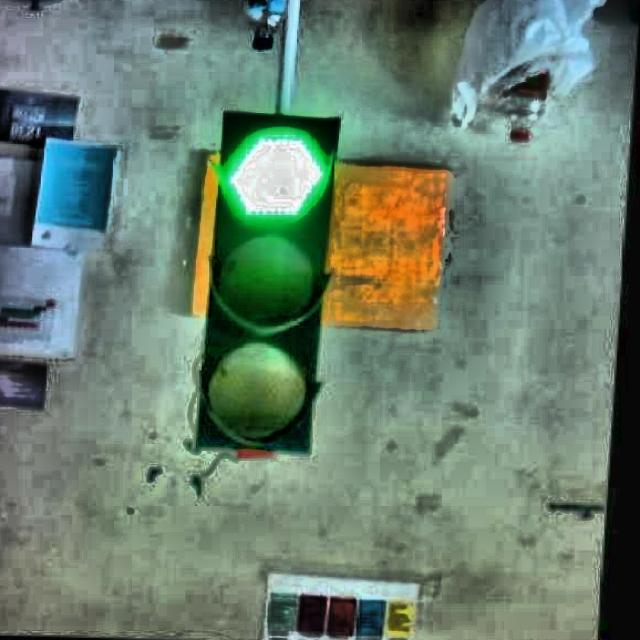green: (192, 109, 351, 461)
